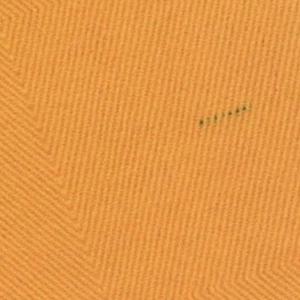stain: (195, 104, 256, 131)
